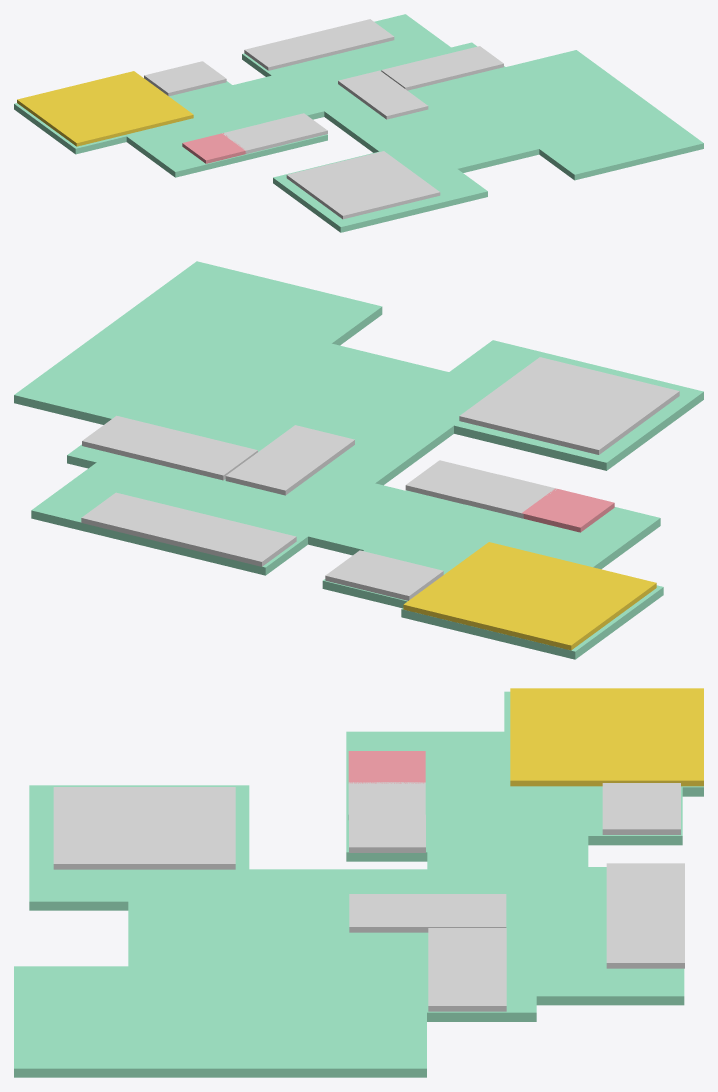
The model's file is schoolmap_1F.glb.
The picture shows the model from 3 angles, top to bottom: view 1: azimuth 30°, elevation 25°; view 2: azimuth 150°, elevation 25°; view 3: azimuth 270°, elevation 25°; orthographic projection. The views are drawn at different scales.
Visible parts, largest first — view 1: 1F, 1F_ground, 128, 225-1F, 111, 108, 106, 113, 102, 104, 103; view 2: 1F, 1F_ground, 128, 225-1F, 111, 108, 106, 113, 102, 104, 103; view 3: 1F_ground, 1F, 128, 225-1F, 111, 108, 106, 113, 104, 103, 102.
Part boxes in pixels (left/top/right/bottom): 1F: left=14, top=14, right=505, bottom=232; 1F_ground: left=389, top=50, right=703, bottom=180; 128: left=17, top=71, right=193, bottom=146; 225-1F: left=286, top=151, right=440, bottom=219; 111: left=244, top=19, right=394, bottom=70; 108: left=381, top=46, right=503, bottom=90; 106: left=338, top=70, right=428, bottom=119; 113: left=144, top=61, right=226, bottom=96; 102: left=182, top=133, right=246, bottom=163; 104: left=263, top=113, right=327, bottom=143; 103: left=222, top=123, right=286, bottom=153; 1F: left=31, top=340, right=703, bottom=659; 1F_ground: left=14, top=261, right=448, bottom=451; 128: left=403, top=542, right=656, bottom=650; 225-1F: left=459, top=357, right=679, bottom=454; 111: left=81, top=492, right=296, bottom=566; 108: left=82, top=415, right=257, bottom=480; 106: left=225, top=425, right=354, bottom=495; 113: left=325, top=550, right=443, bottom=600; 102: left=522, top=488, right=614, bottom=532; 104: left=405, top=460, right=498, bottom=504; 103: left=464, top=474, right=556, bottom=518; 1F_ground: left=14, top=901, right=426, bottom=1077; 1F: left=29, top=691, right=703, bottom=1021; 128: left=510, top=688, right=703, bottom=786; 225-1F: left=53, top=787, right=235, bottom=869; 111: left=606, top=863, right=684, bottom=968; 108: left=428, top=928, right=506, bottom=1011; 106: left=349, top=894, right=506, bottom=932; 113: left=602, top=783, right=680, bottom=834; 104: left=349, top=814, right=425, bottom=852; 103: left=348, top=782, right=425, bottom=819; 102: left=348, top=751, right=425, bottom=783.
Size of the model in its own units: 8.43 by 0.1547 by 6.52.
